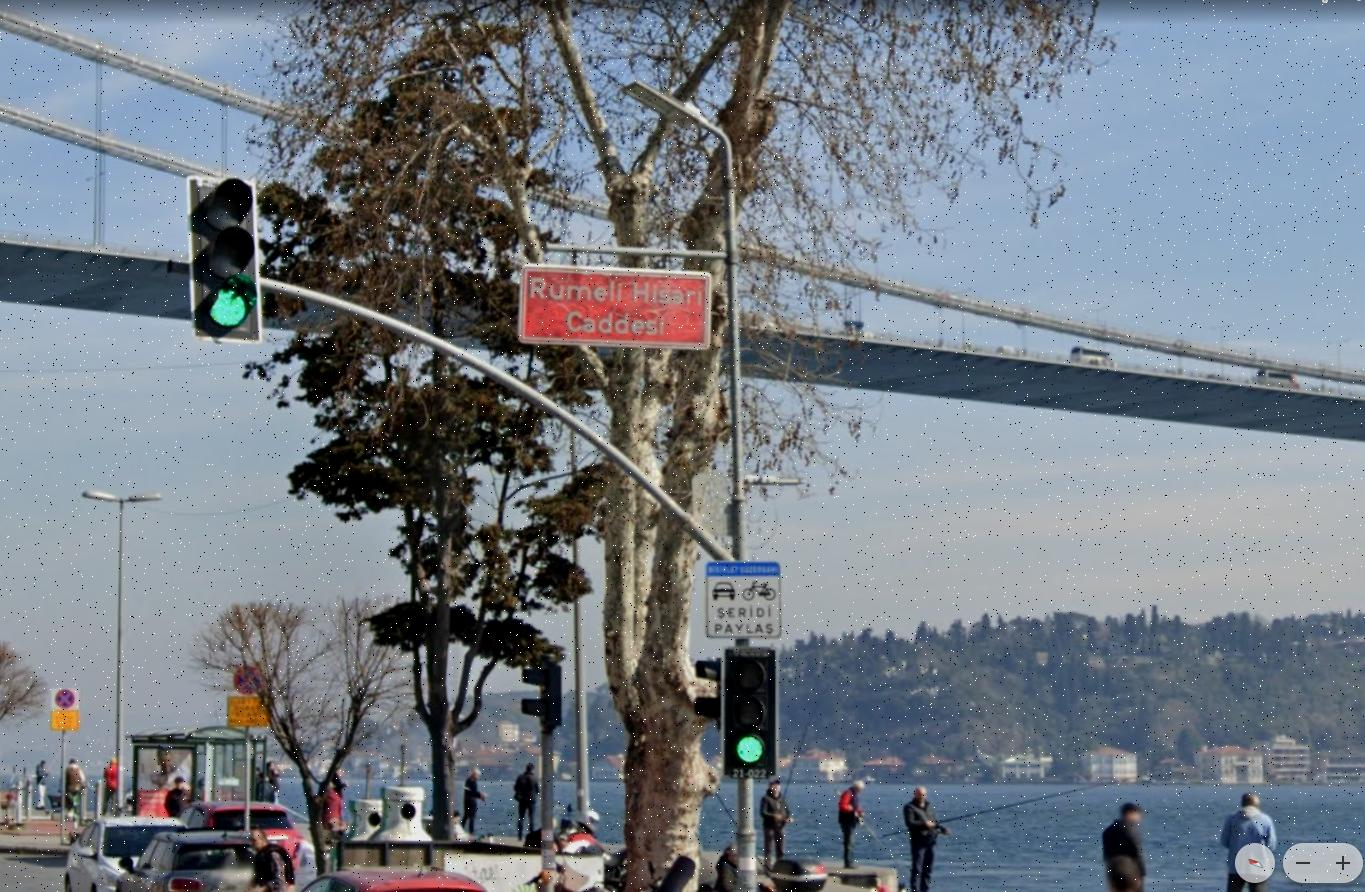greenlight: (191, 175, 259, 338), (724, 648, 773, 772)
